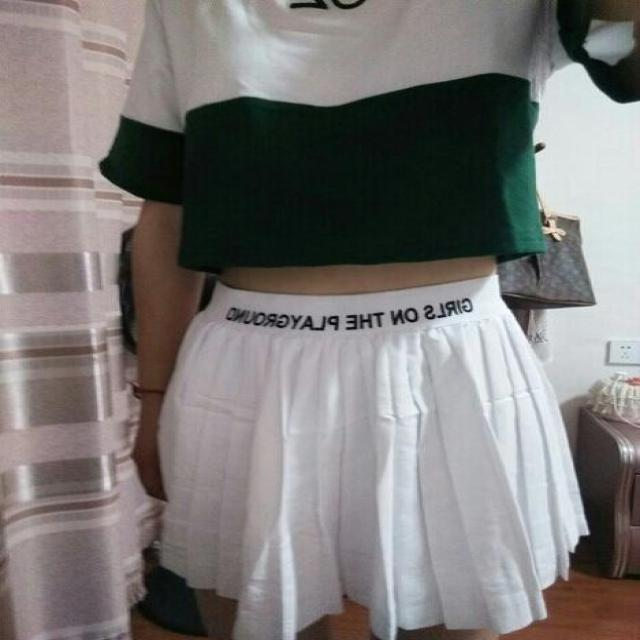short sleeve top: (100, 3, 633, 263)
skirt: (161, 276, 587, 614)
